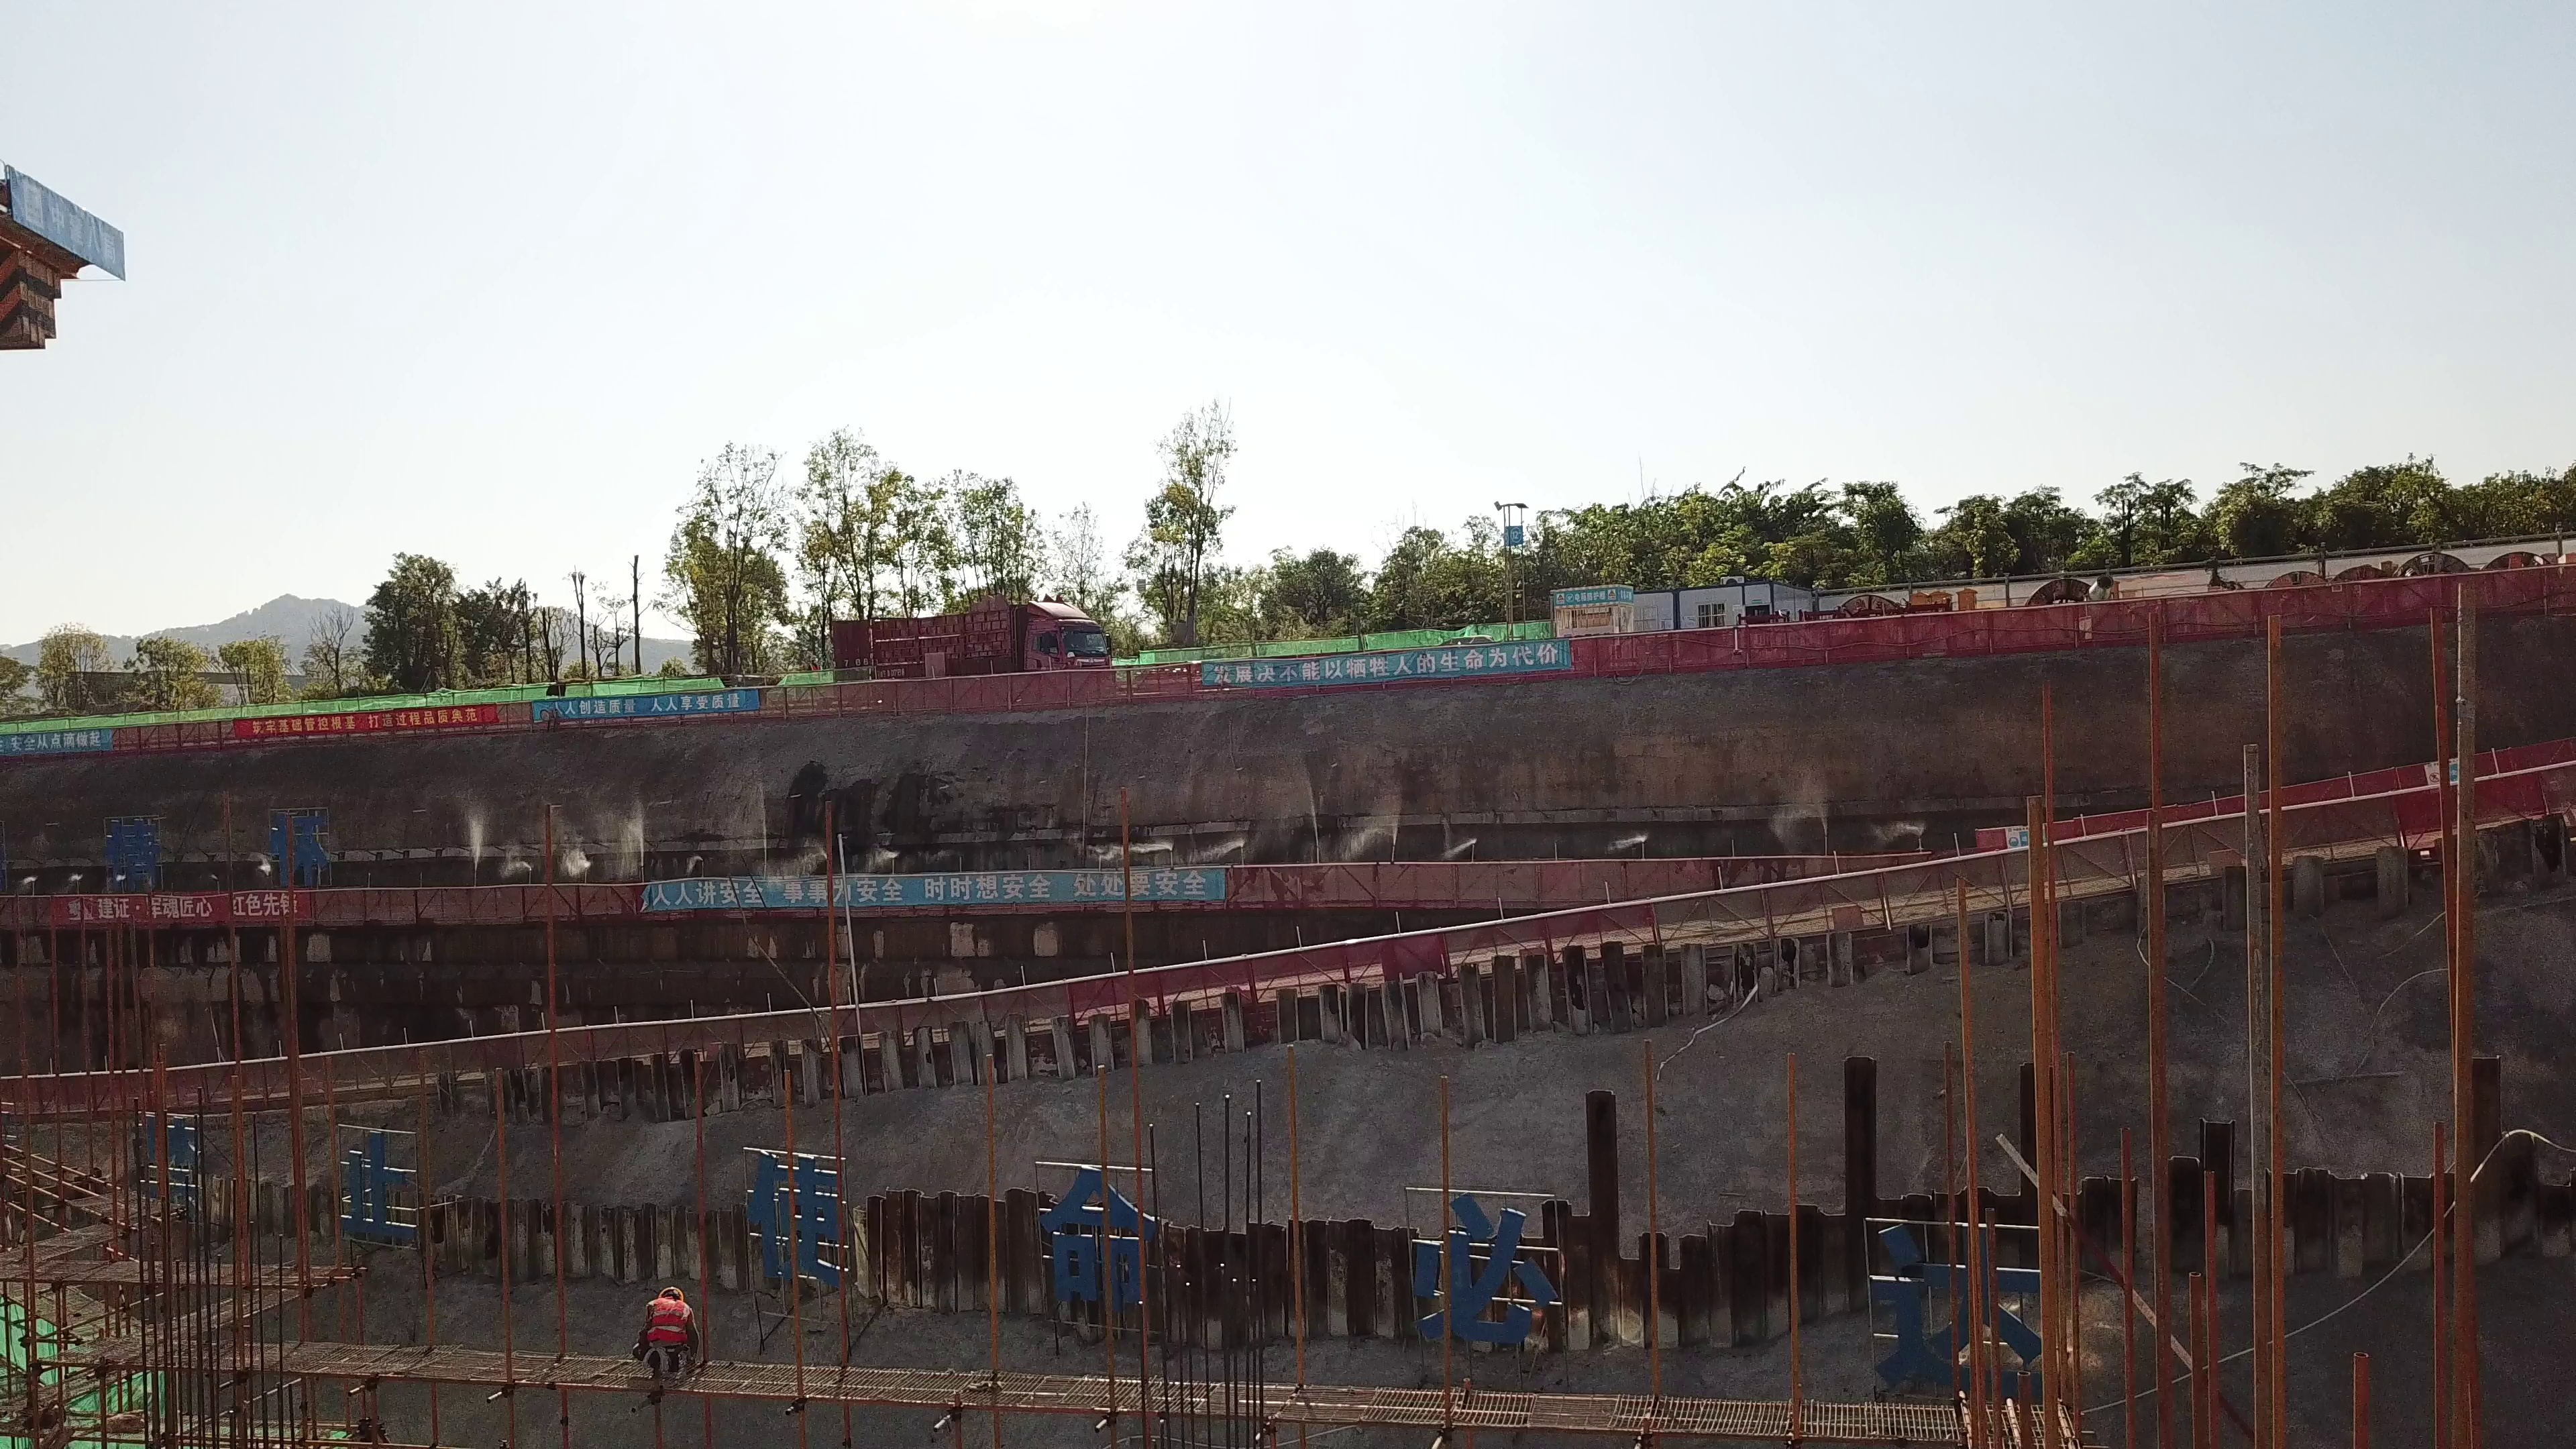fence: (2068, 754, 2561, 896), (1668, 849, 2062, 952), (2168, 568, 2573, 651), (992, 945, 1348, 1034), (1814, 605, 2168, 676), (345, 1015, 659, 1093), (1246, 842, 1631, 903), (1342, 916, 1663, 983), (664, 993, 987, 1056), (946, 667, 1214, 732), (329, 879, 635, 929), (1574, 622, 1809, 680), (765, 676, 944, 728)
helmet: (659, 1284, 685, 1298)
person: (625, 1279, 720, 1401)
slogan: (638, 860, 1238, 913), (1207, 631, 1572, 698), (237, 701, 497, 737), (59, 891, 319, 928), (532, 687, 767, 723), (1, 728, 113, 760)
vest: (649, 1297, 688, 1343)
